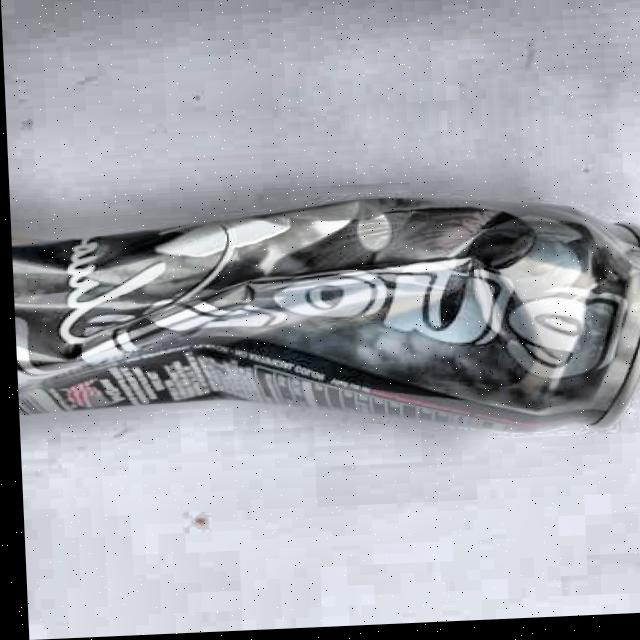metal: (9, 180, 640, 456)
